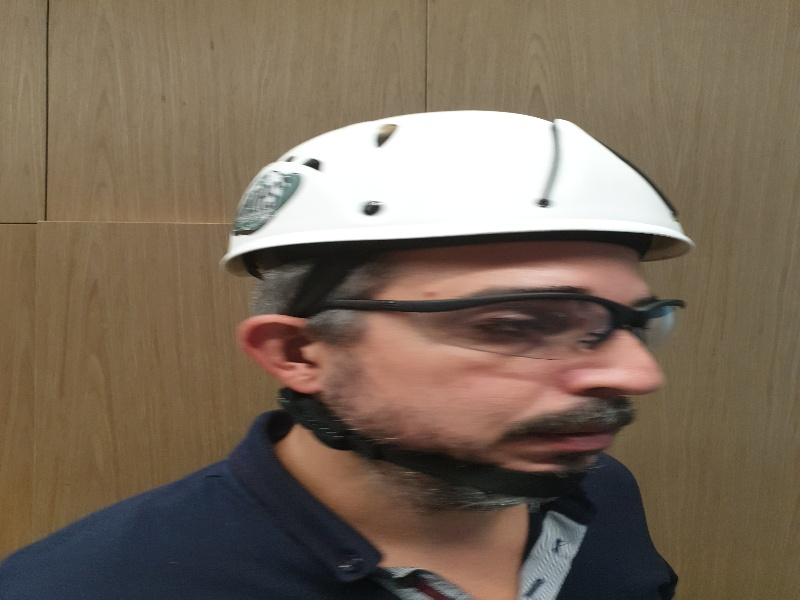Baret: (230, 108, 693, 262)
Gozluk: (304, 288, 685, 369)
